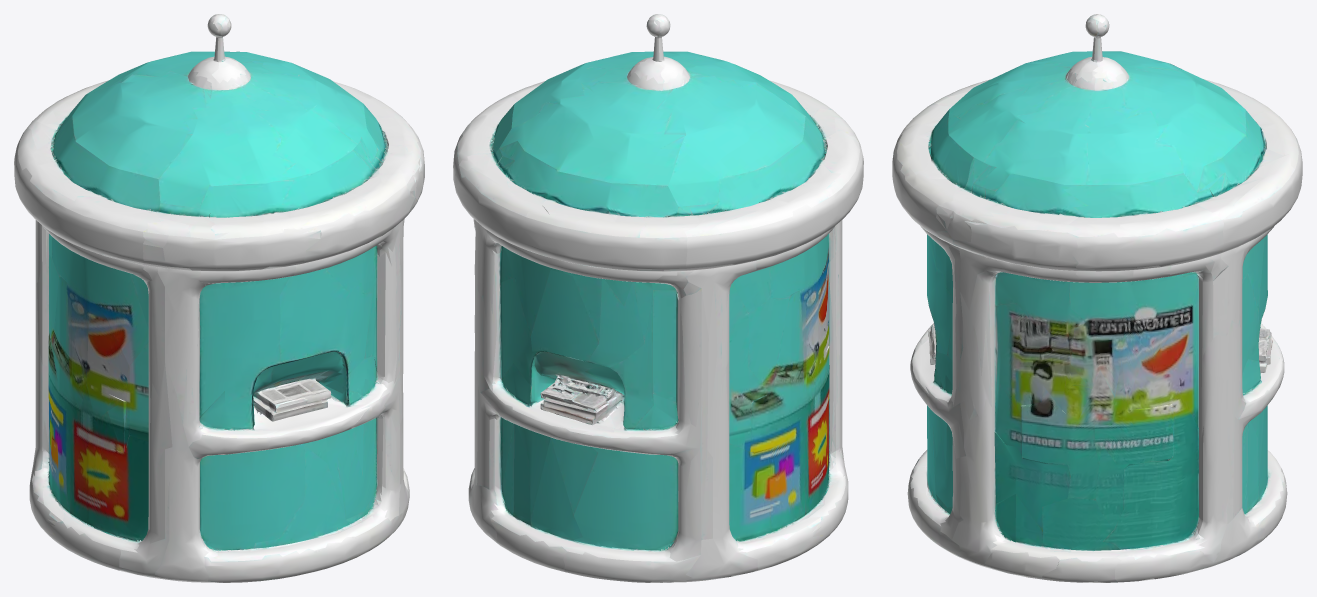
The model's file is kiosk.glb.
The picture shows the model from 3 angles, left to right: view 1: azimuth 30°, elevation 25°; view 2: azimuth 150°, elevation 25°; view 3: azimuth 270°, elevation 25°; orthographic projection.
Bounding box in the file's own units: 1.43 × 1.9 × 1.43.
Materials: 1 (1 with a texture image).
